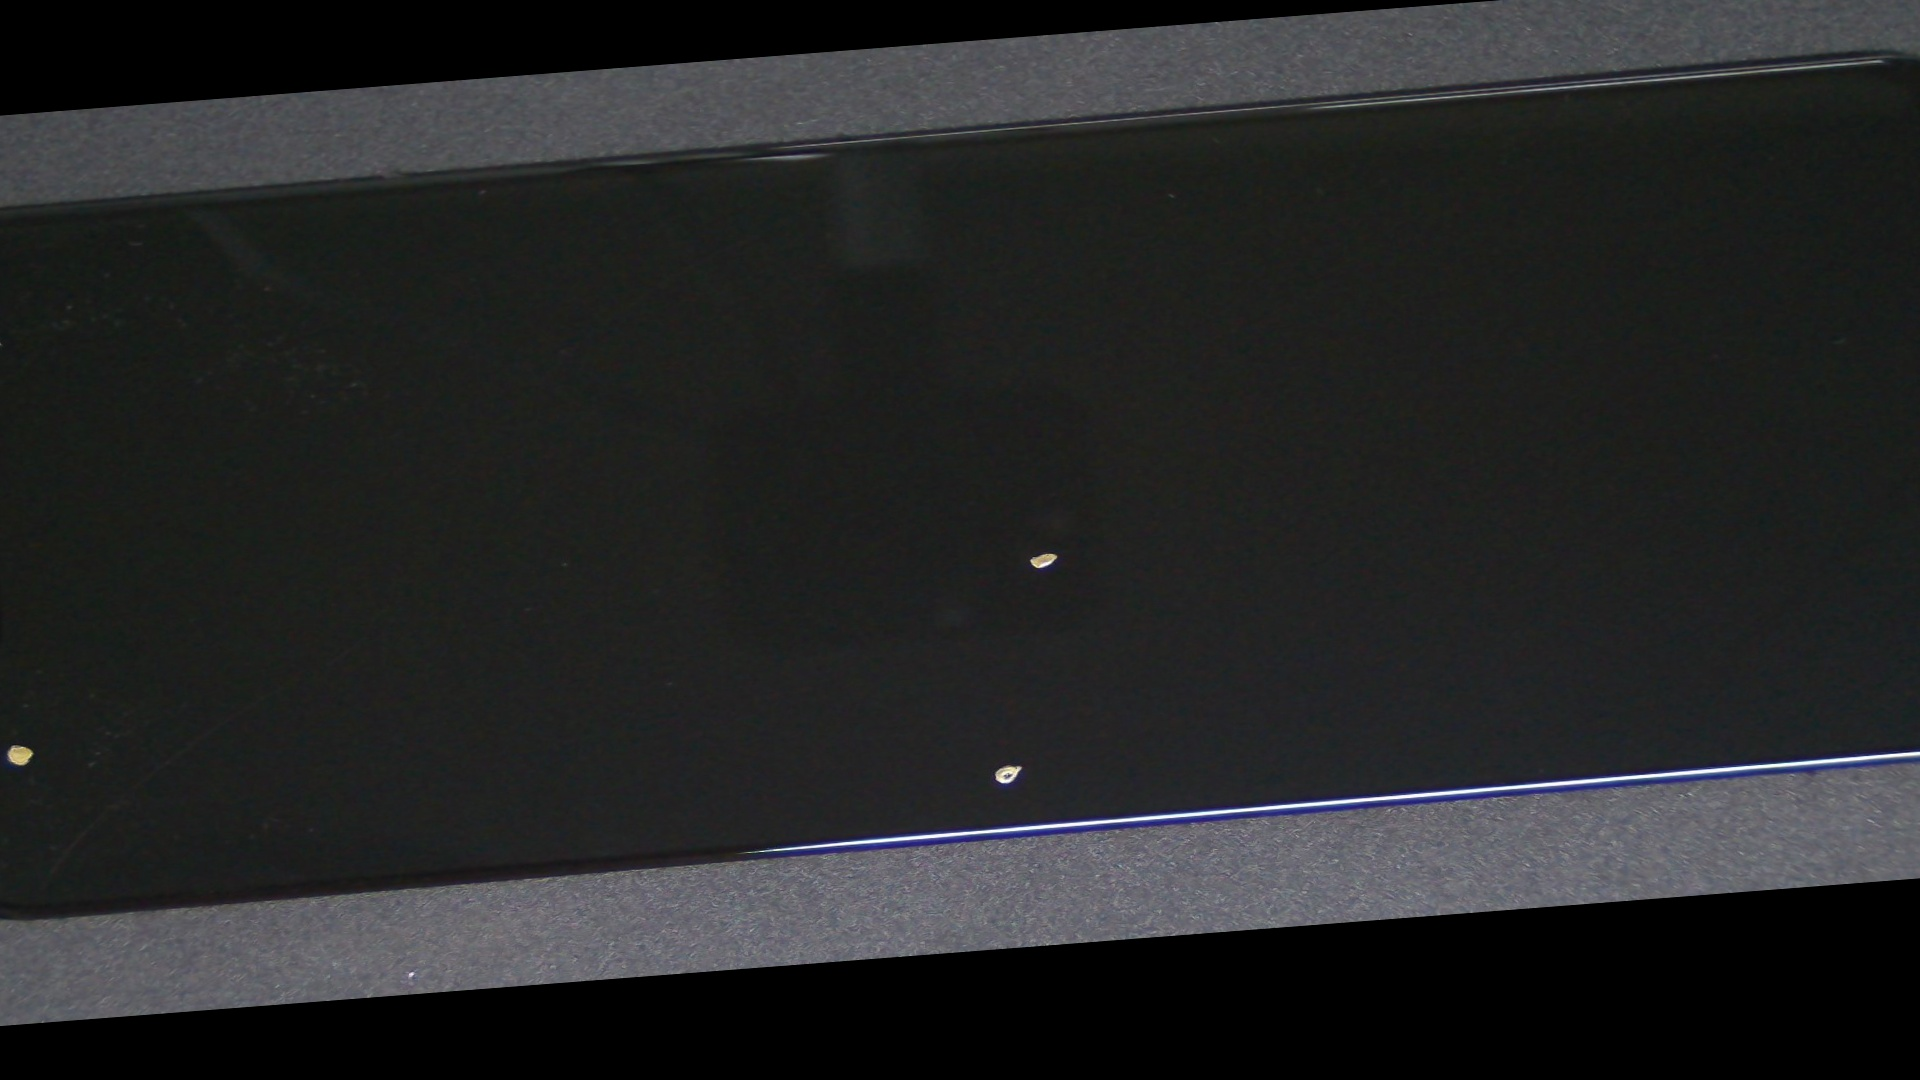oil: (390, 356, 1620, 993), (405, 247, 1679, 857), (0, 423, 131, 1031)
